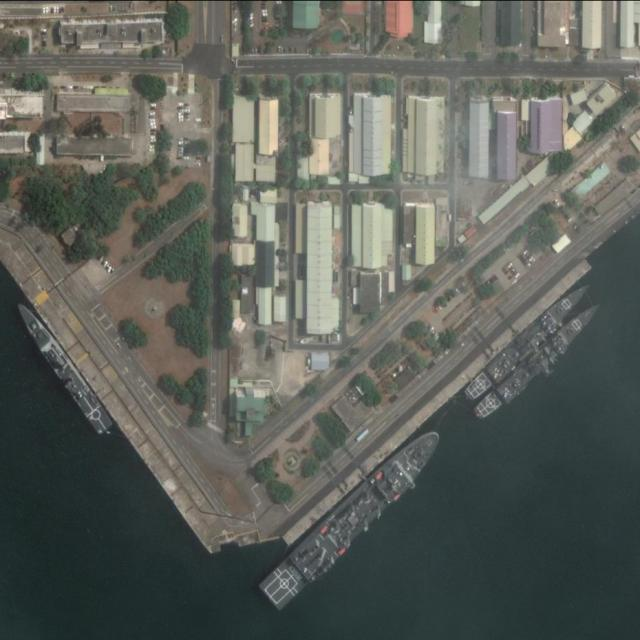Commander: (250, 415, 456, 621)
Frigate: (463, 277, 594, 403), (473, 299, 606, 420)
